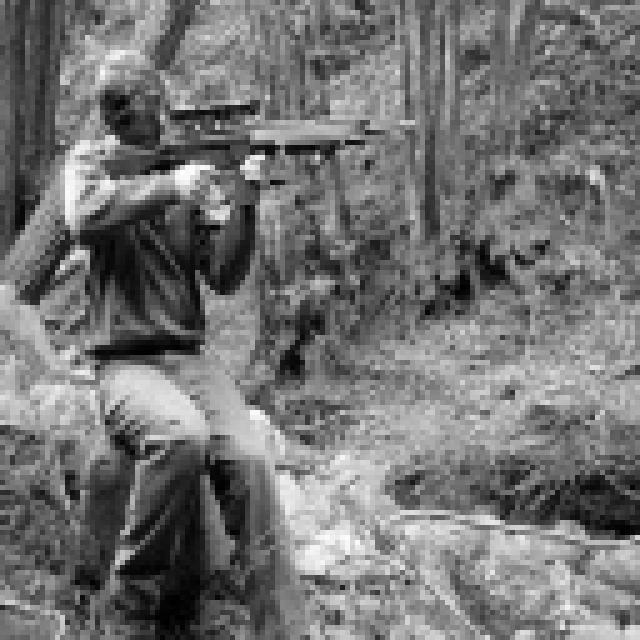Rifle: (92, 80, 396, 228)
